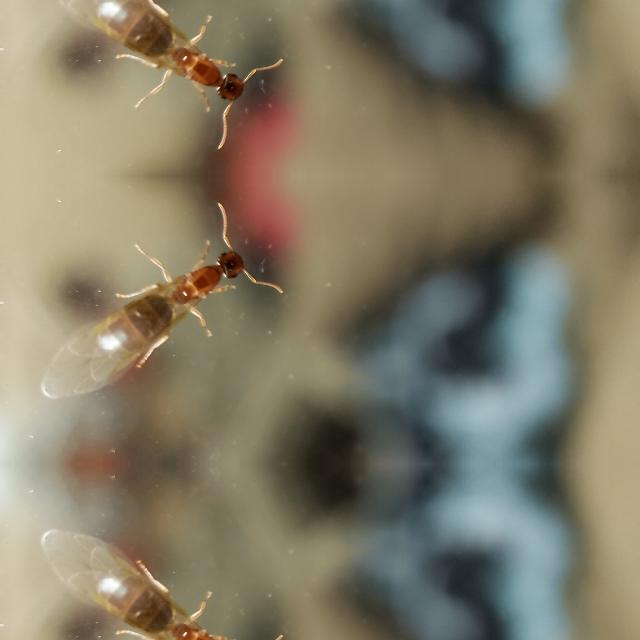Colobopsis: (42, 198, 314, 384), (42, 0, 314, 152), (42, 542, 314, 640)
